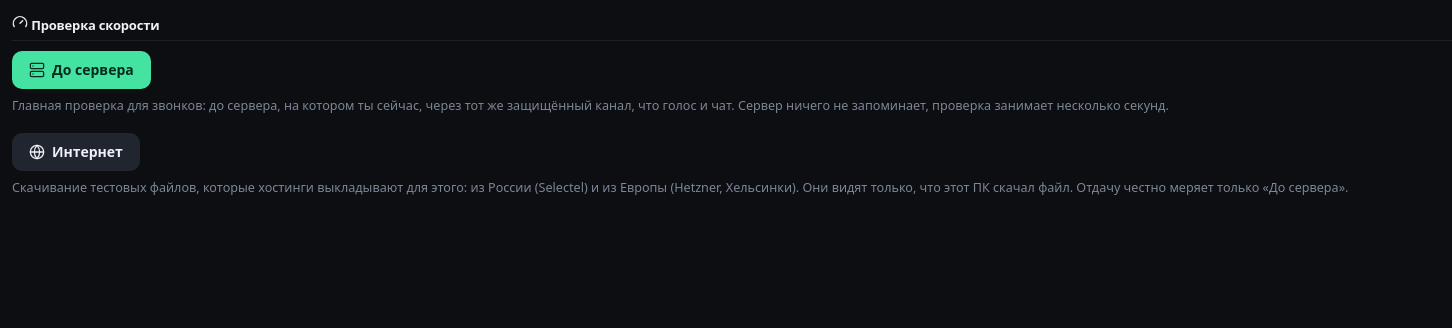
«Сеть»: the speed test › says what went wrong
What coordinates should you click on to do the following:
click the button "До сервера"
I would click on:
 (81, 70)
Its box is [12,51,151,89].
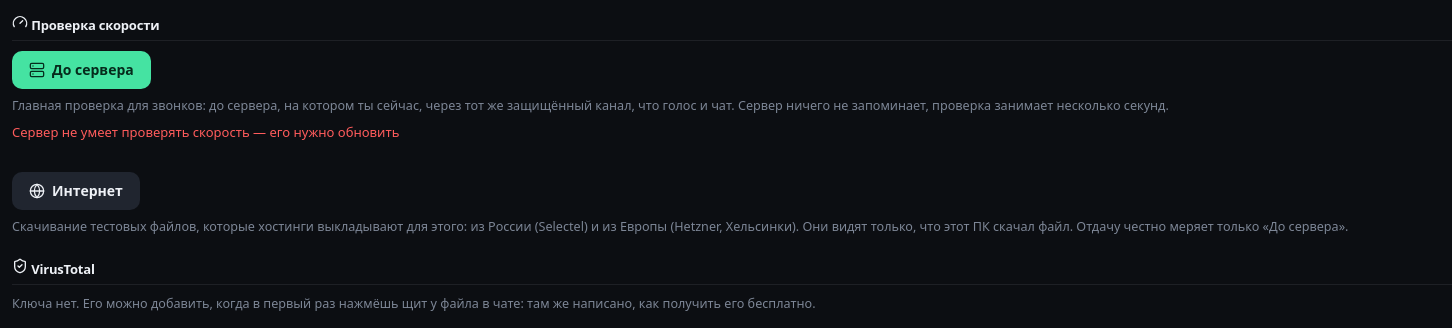
Expected: the text "Сервер не умеет проверять скорость — его нужно обновить" is shown, [12,123,399,142]
